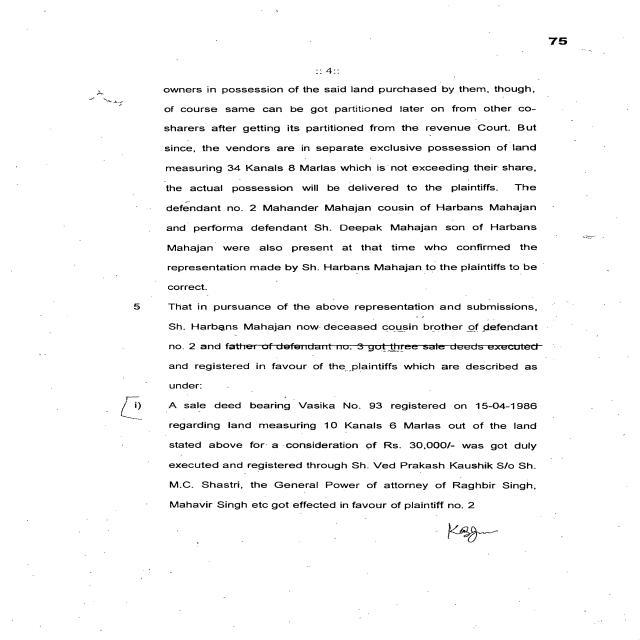page-number: (456, 0, 639, 60)
